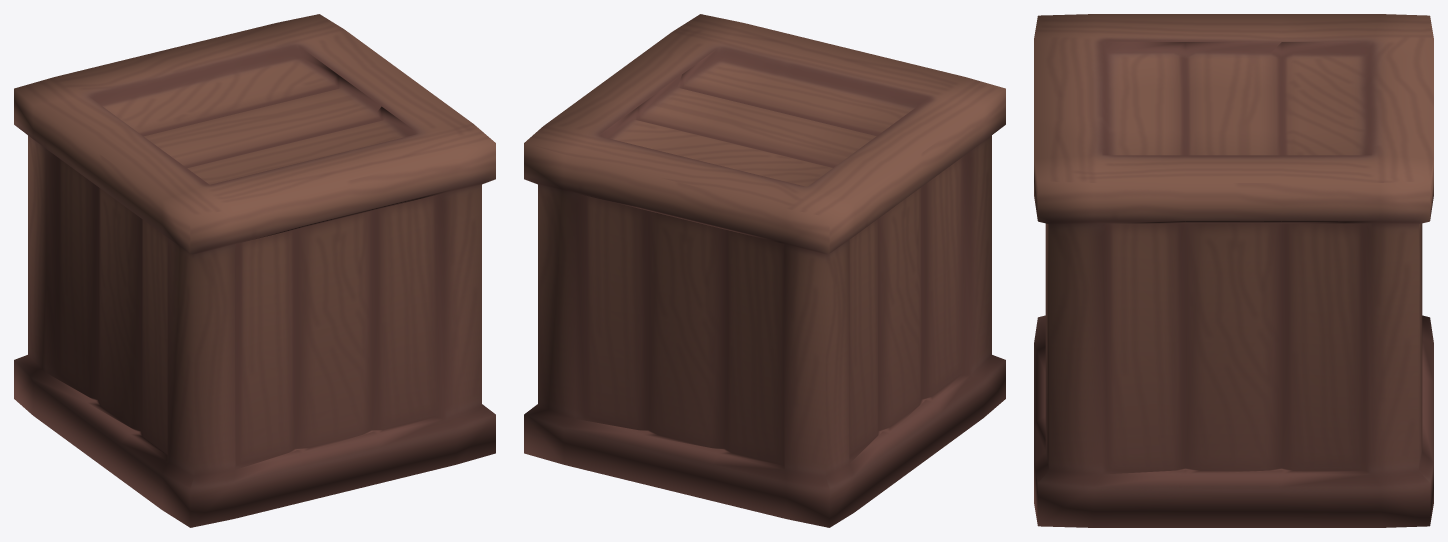
The model's file is crate.fbx.
The picture shows the model from 3 angles, left to right: view 1: azimuth 30°, elevation 25°; view 2: azimuth 150°, elevation 25°; view 3: azimuth 270°, elevation 25°; orthographic projection. The views are drawn at different scales.
Visible parts, largest first — view 1: crate; view 2: crate; view 3: crate.
Boxes of the visible parts, left/top/right/bottom form: crate: left=14, top=14, right=495, bottom=527; crate: left=524, top=14, right=1005, bottom=527; crate: left=1034, top=14, right=1433, bottom=527.
Bounding box in the file's own units: 10.62 × 10.11 × 10.62.
